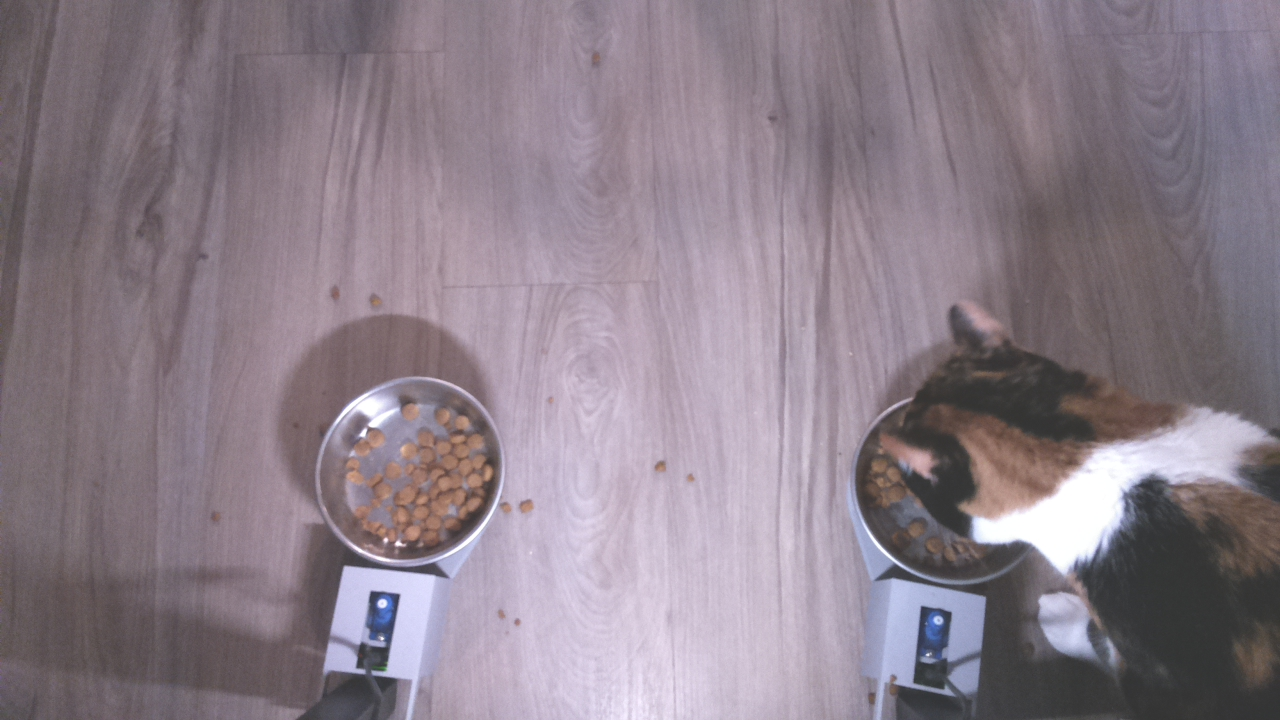bella_eating: (845, 291, 1150, 584)
open_bowl: (308, 373, 506, 569)
